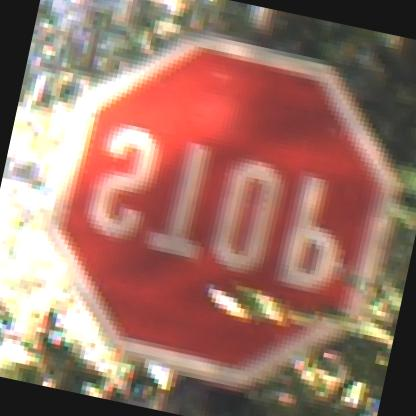stop: (12, 6, 411, 400)
